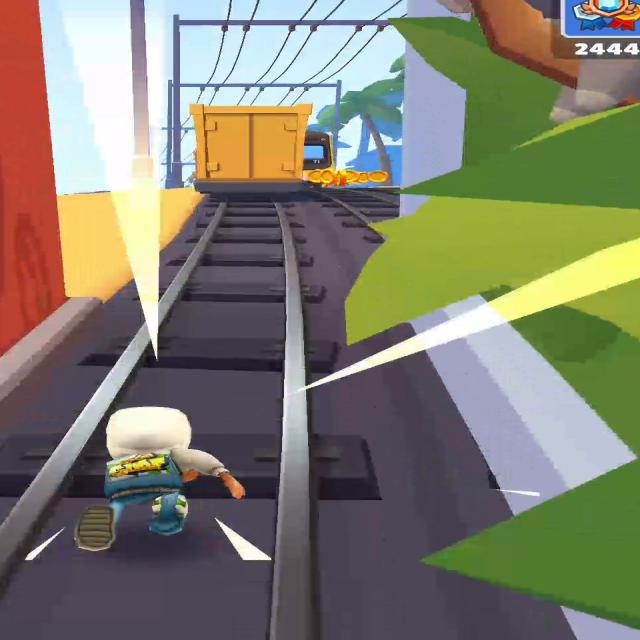block pillar: (308, 0, 639, 629)
train: (190, 104, 311, 194), (303, 129, 333, 171)
